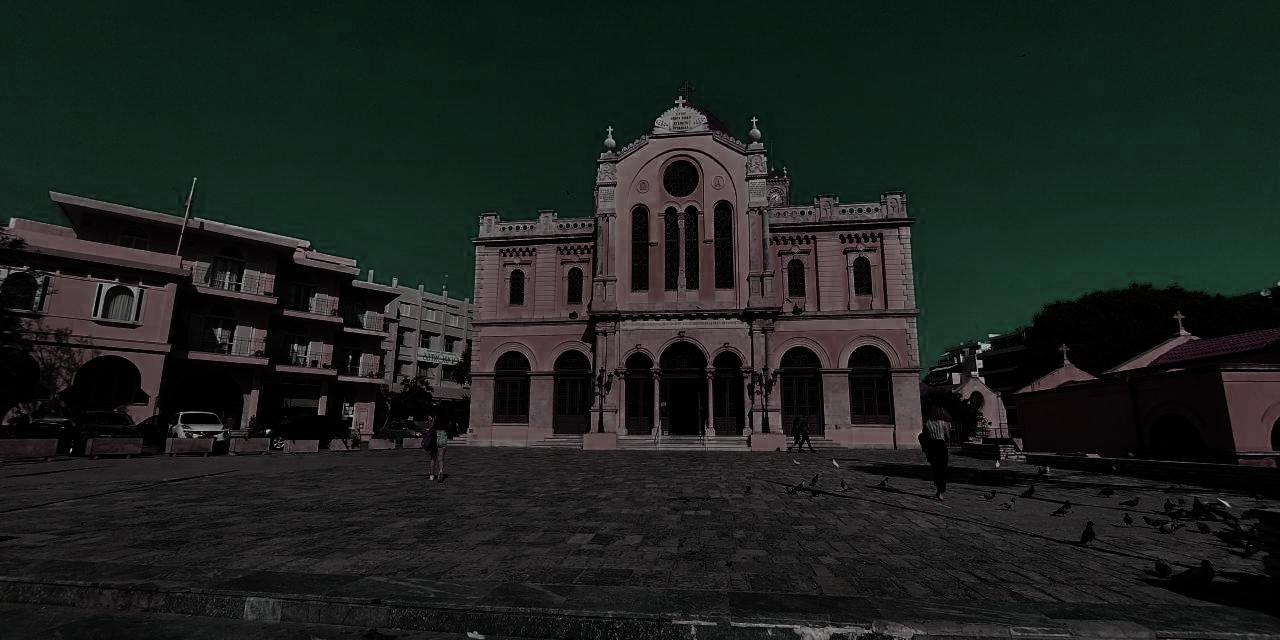Agios Minas: (464, 71, 927, 450)
